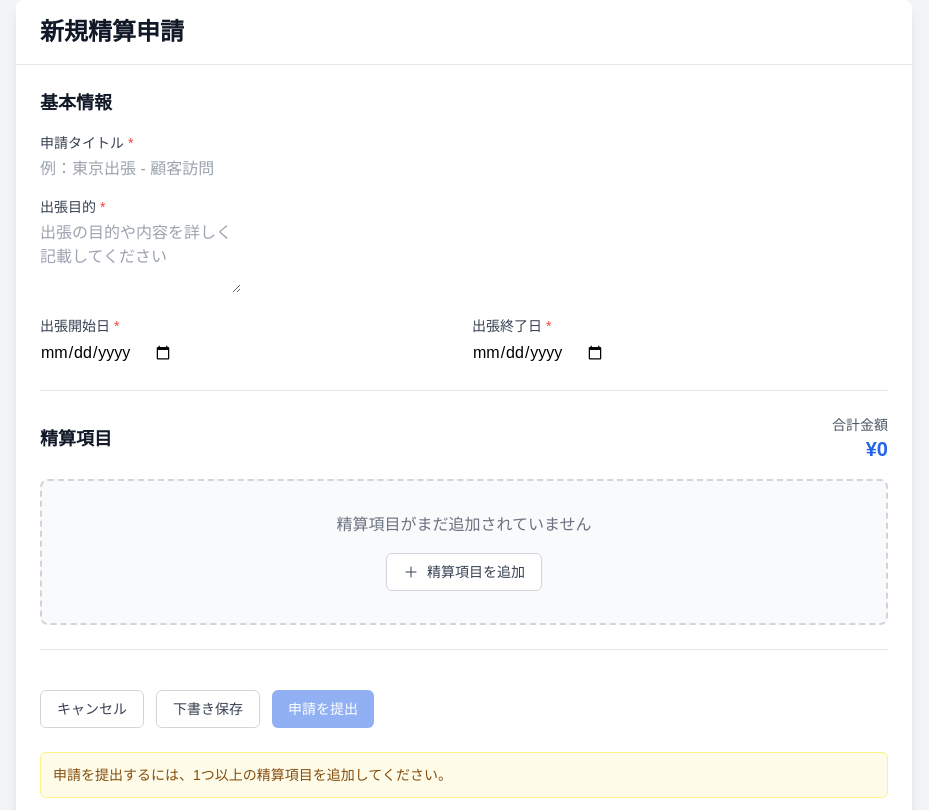
Test: ExpenseReportForm › shows unsaved changes indicator when form is dirty
This screenshot has width=929, height=810.
# Make changes to trigger dirty state
Type "テスト" into the field labelled "申請タイトル*" at (144, 169), box top-left (40, 157), bottom-right (247, 181)
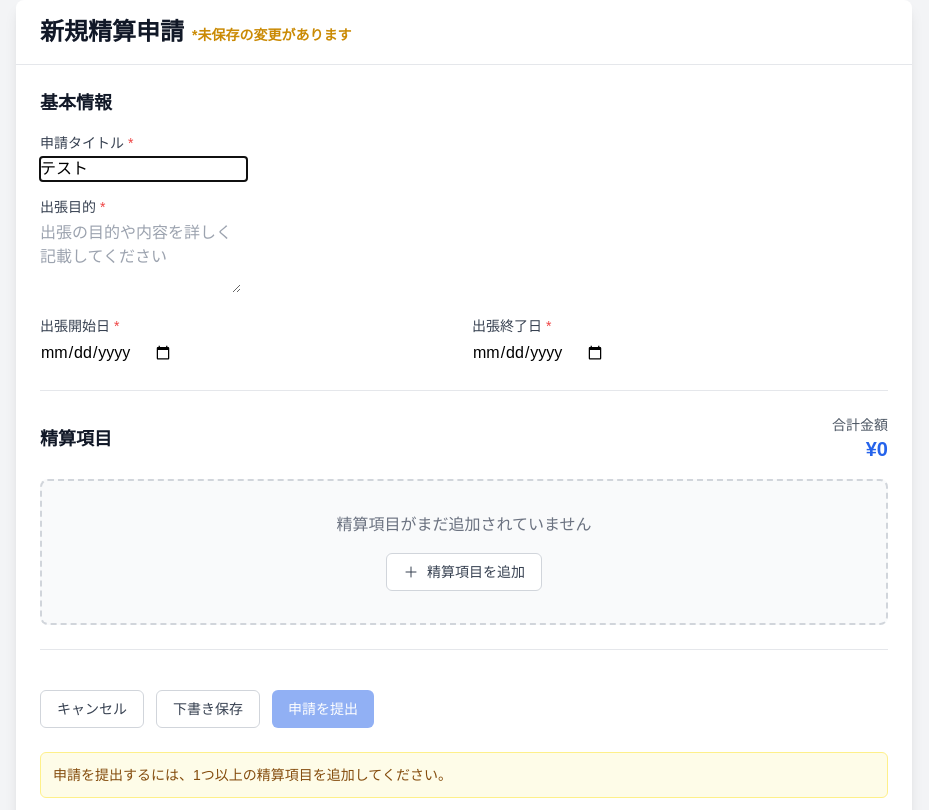
Expected: the text "*未保存の変更があります" is shown, top-left (192, 27), bottom-right (352, 43)
